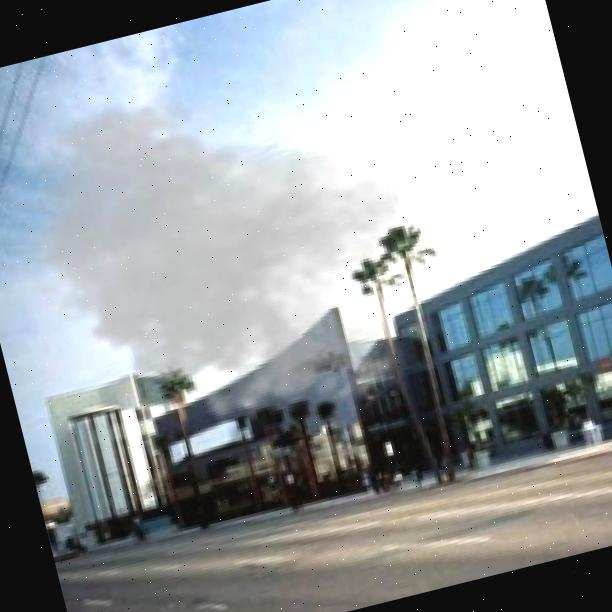smoke: (0, 36, 447, 481)
